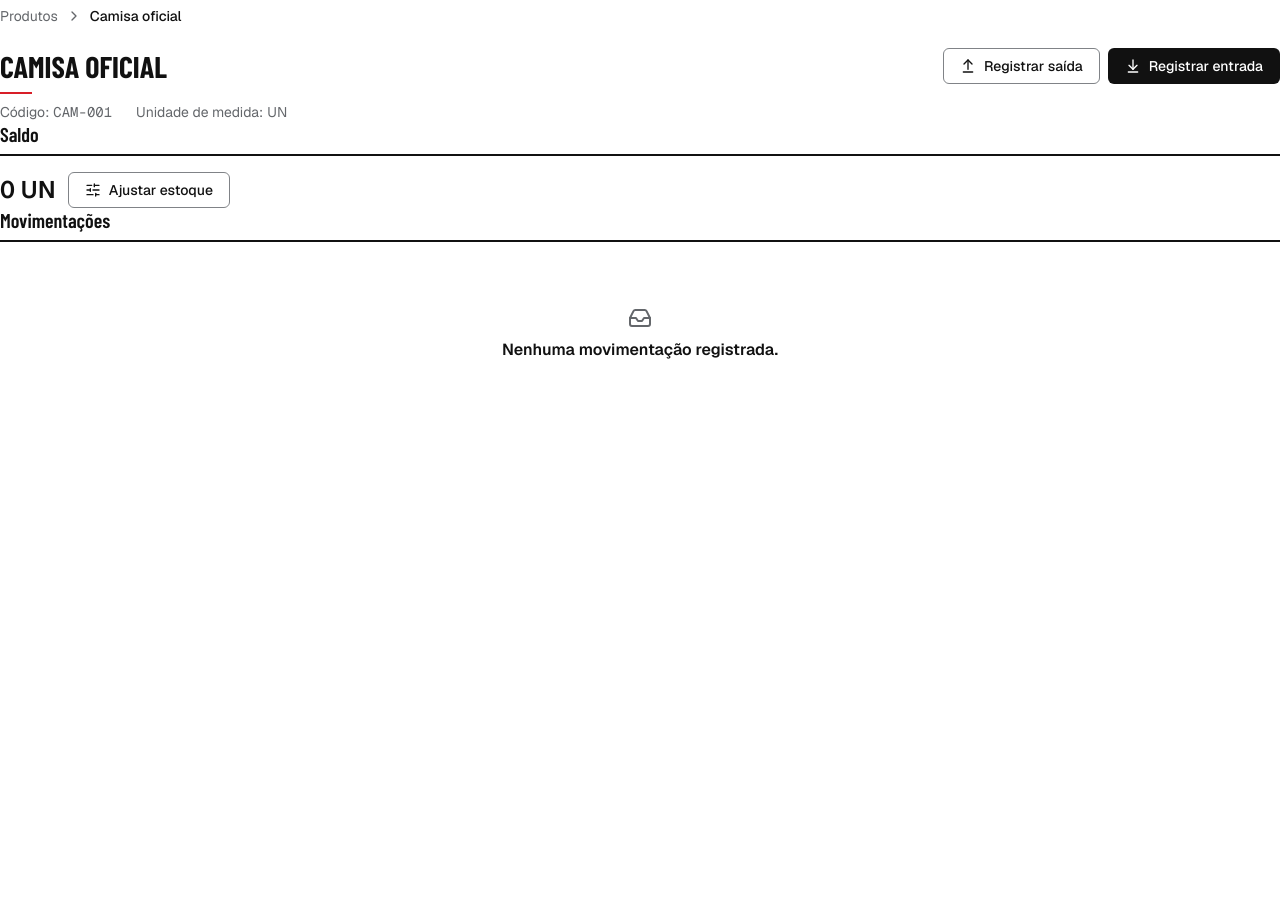
Test: erros da API › 422 motivo_obrigatorio mostra a mensagem e mantém o diálogo
Expected: the text "0 UN" is shown, [0, 174, 56, 206]
Click the button "Ajustar estoque": (149, 190) [68, 172, 230, 208]
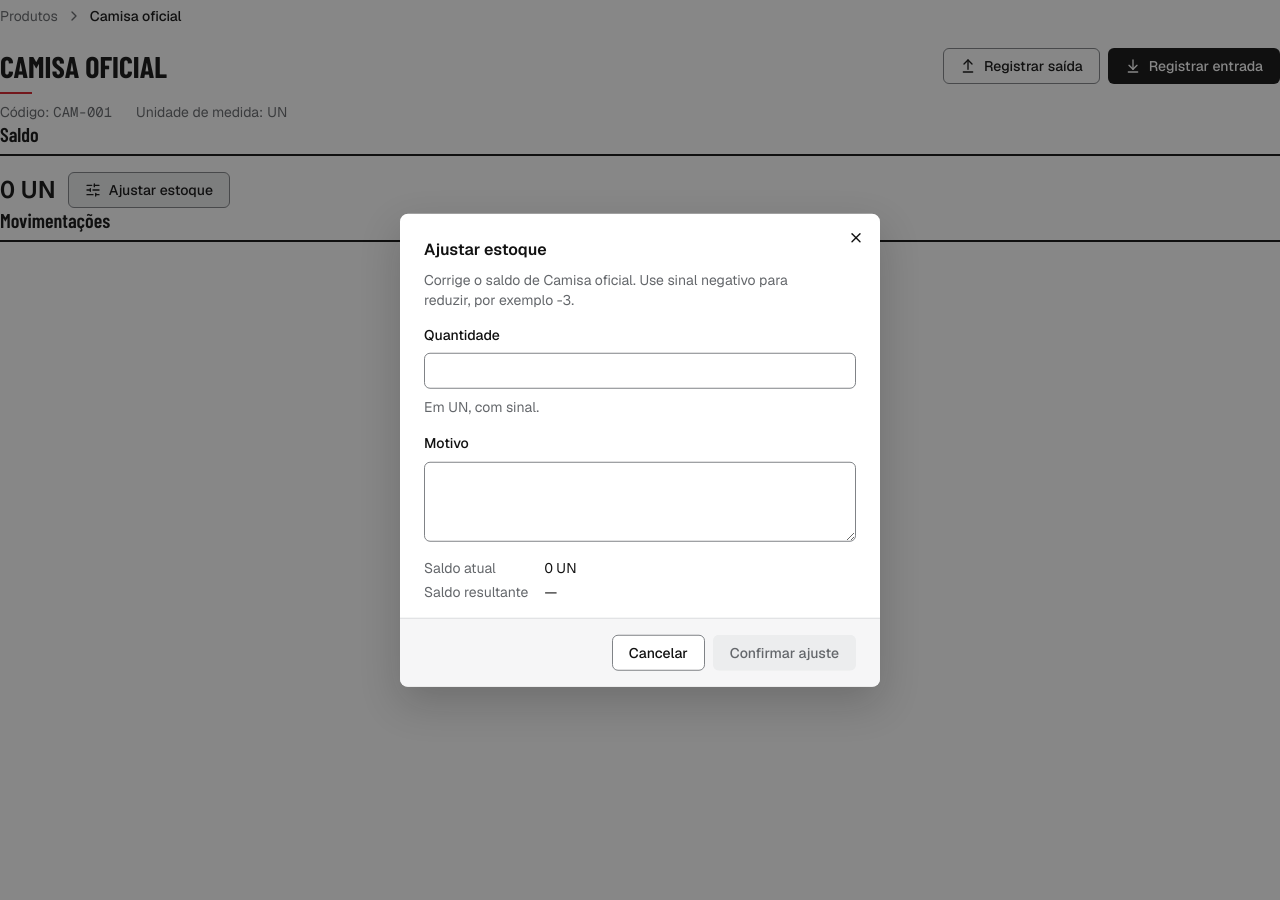
In the field labelled "Quantidade": (640, 371) [424, 353, 856, 389], type "-1"
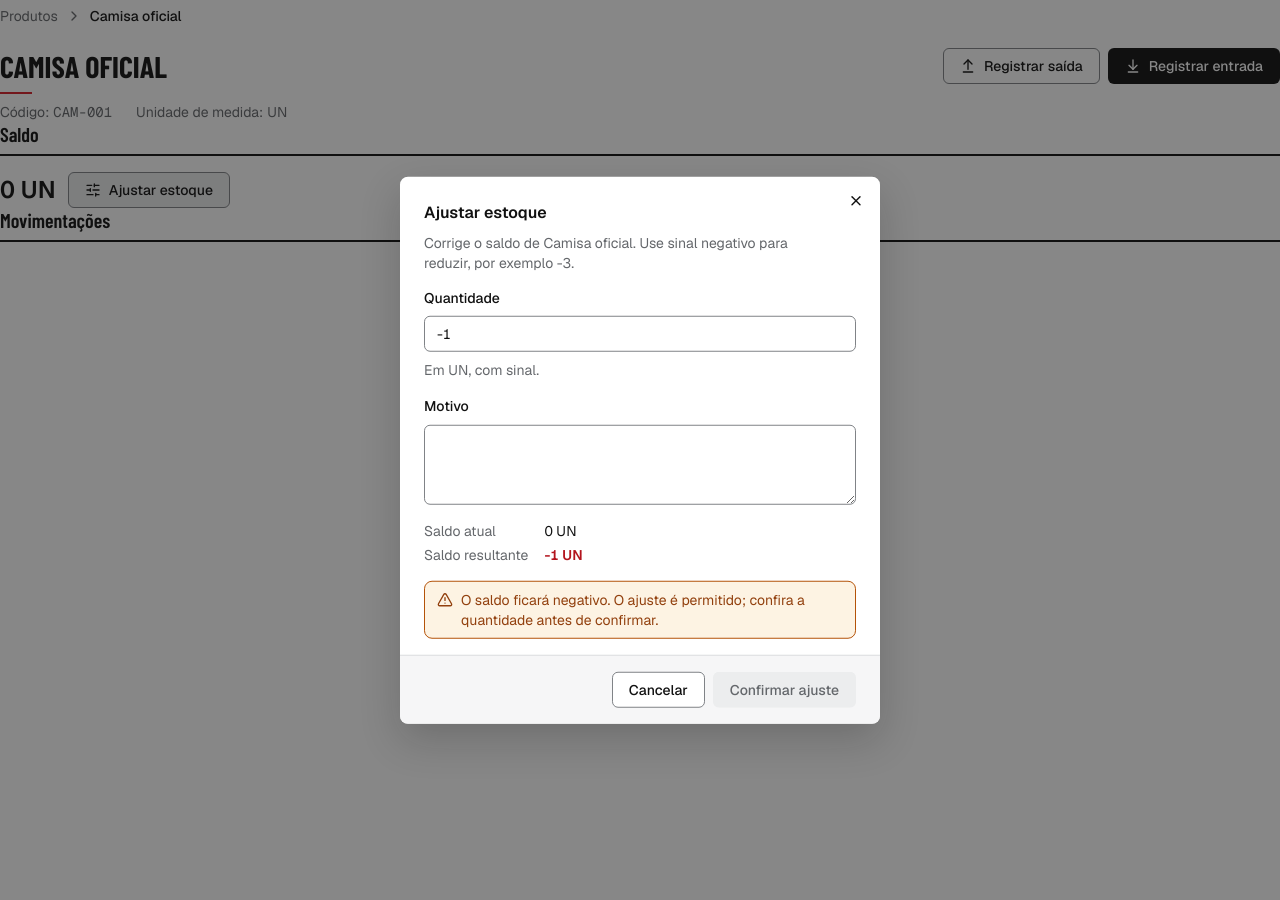
In the text box labelled "Motivo": (640, 464) [424, 424, 856, 504], type "Motivo"
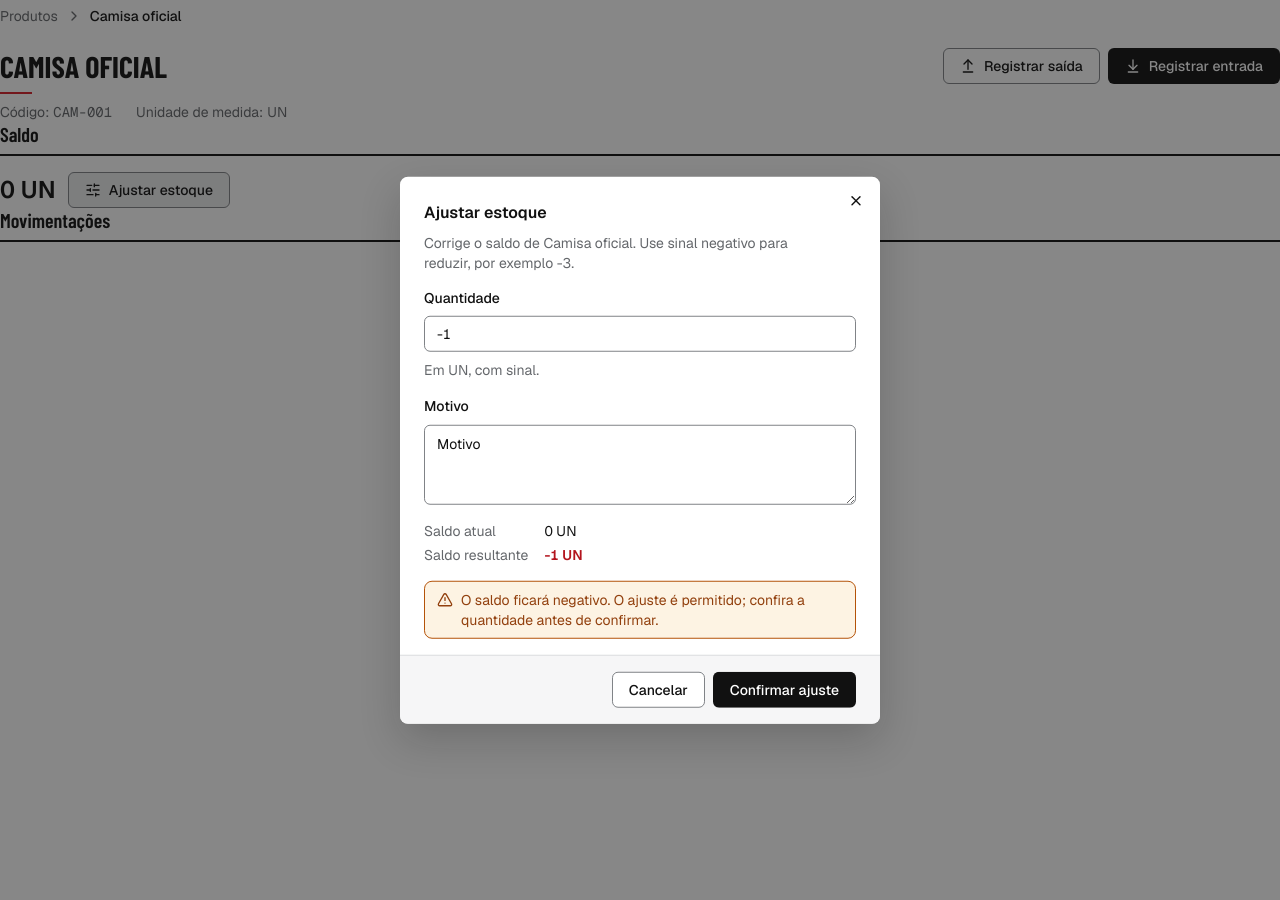
Click the button "Confirmar ajuste": (784, 689) [713, 671, 856, 707]
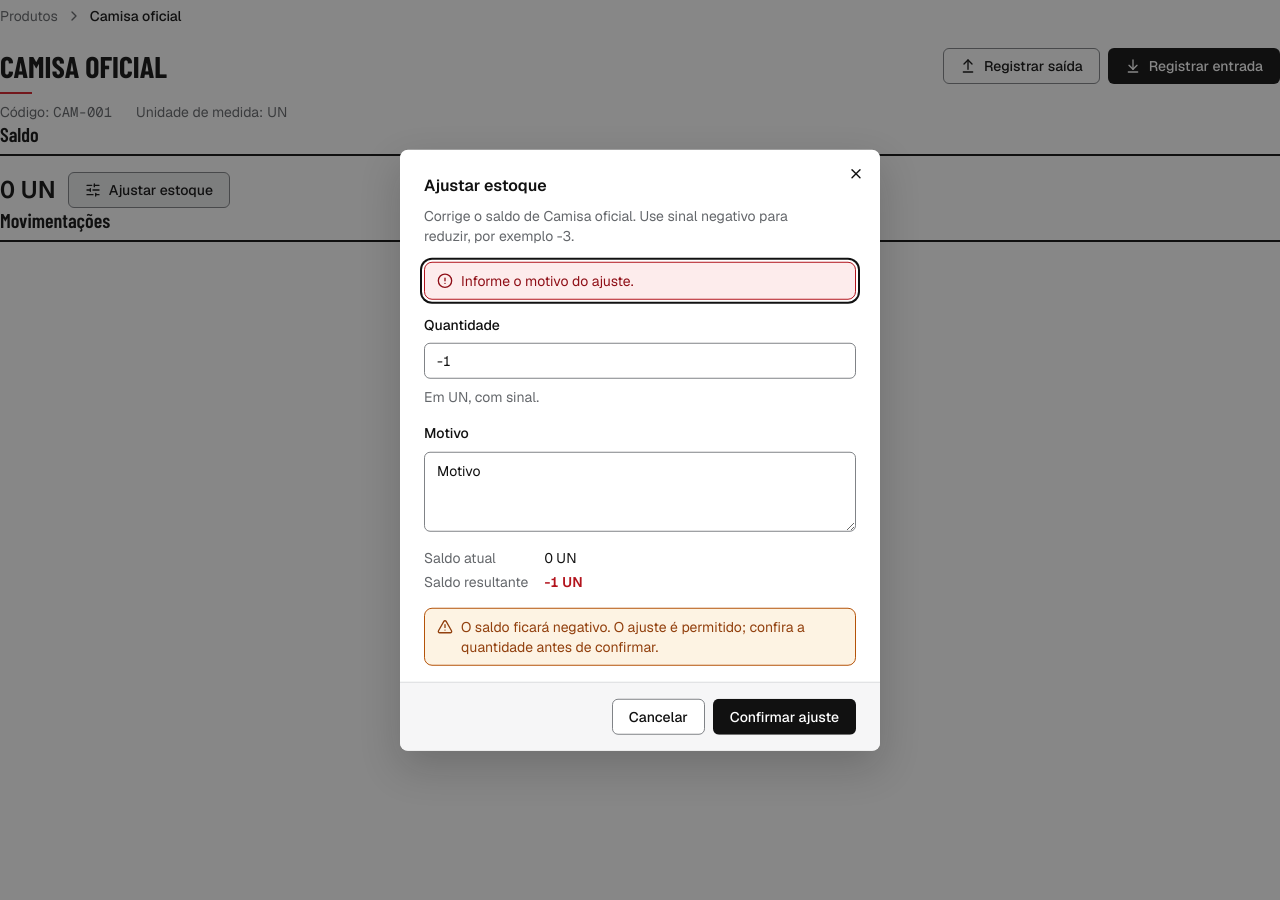
Expected: the text with test id "saldo-valor" reads "0 UN", [0, 174, 56, 205]
Expected: the text "Informe o motivo do ajuste." is shown, [461, 272, 634, 290]
